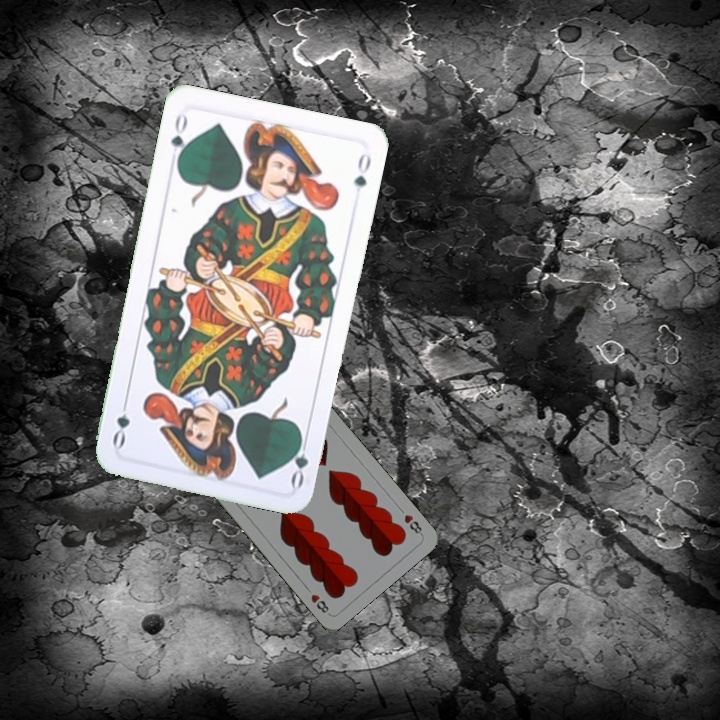GO: (166, 109, 192, 168), (286, 430, 311, 490)
H8: (400, 510, 425, 538)
